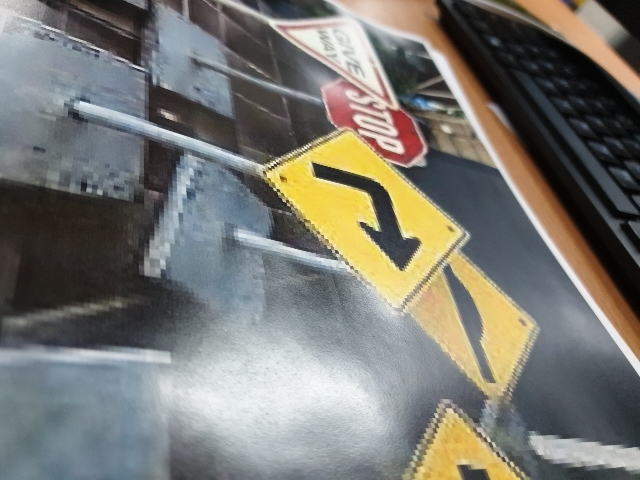giveway: (274, 18, 392, 87)
right: (266, 119, 464, 313)
stop: (315, 71, 435, 162)
